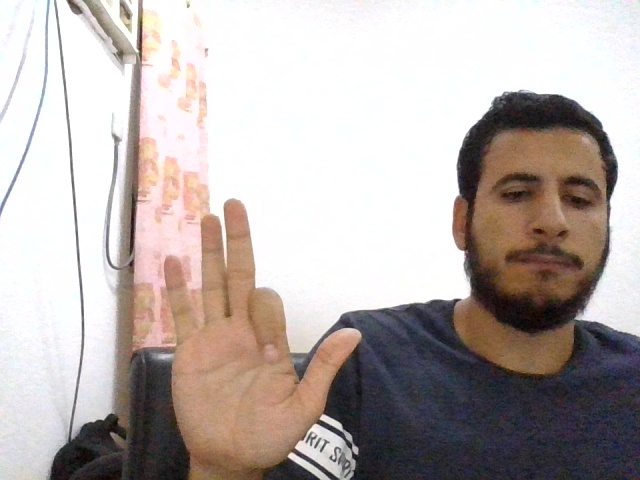Four: (163, 198, 363, 468)
